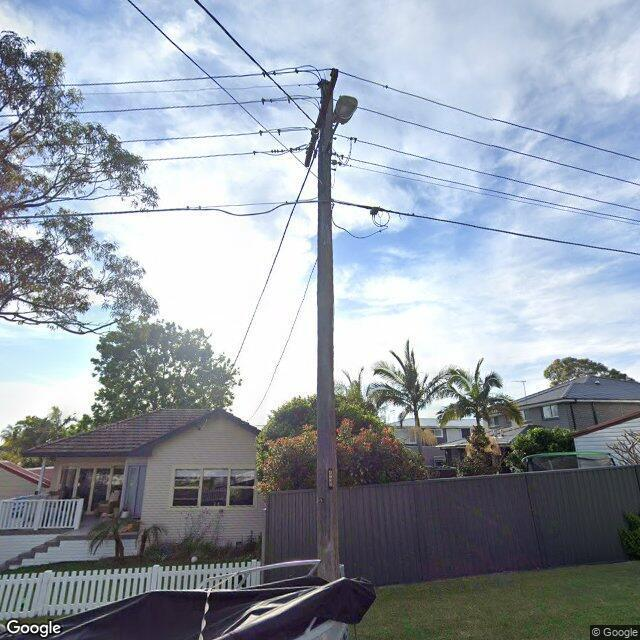crossarm: (304, 68, 338, 168)
streetlight: (325, 94, 359, 154)
timber-pole: (316, 78, 339, 583)
